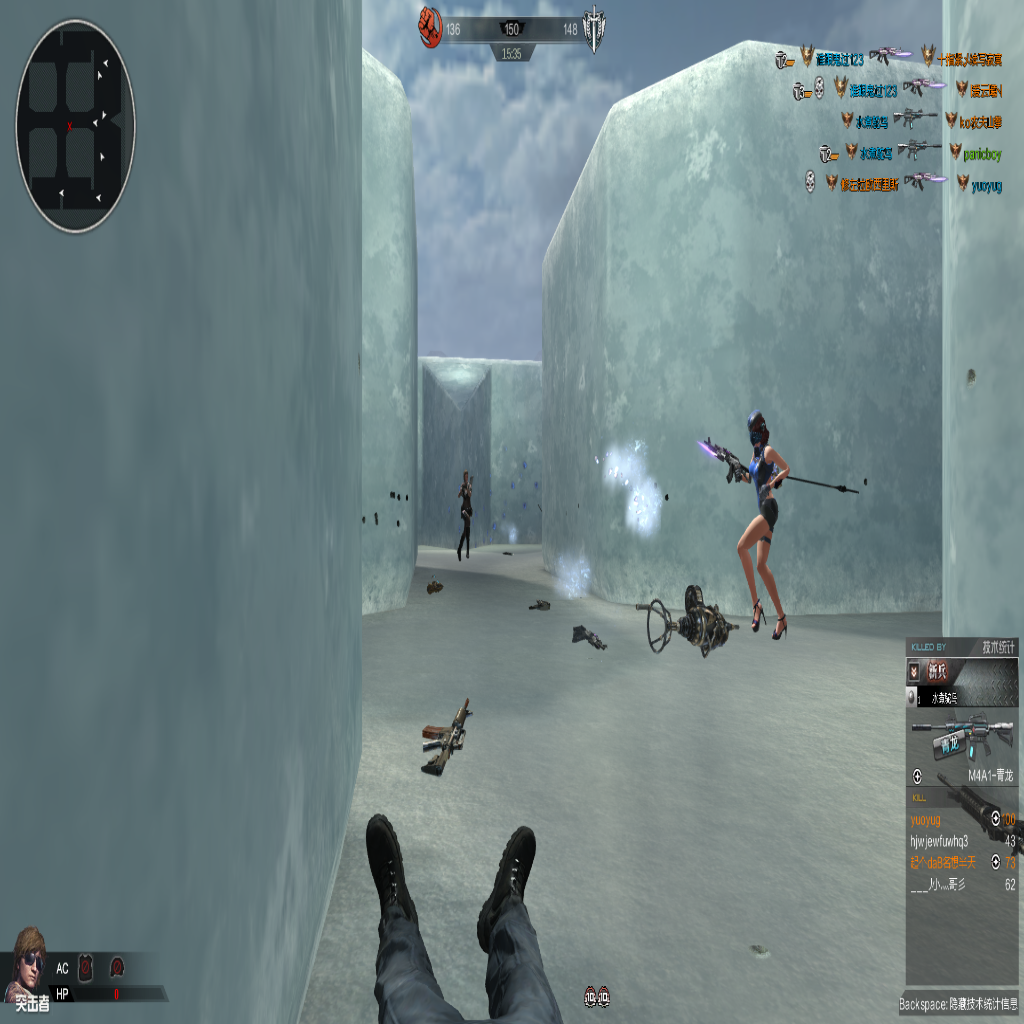ct: (735, 410, 788, 644), (457, 470, 474, 558)
